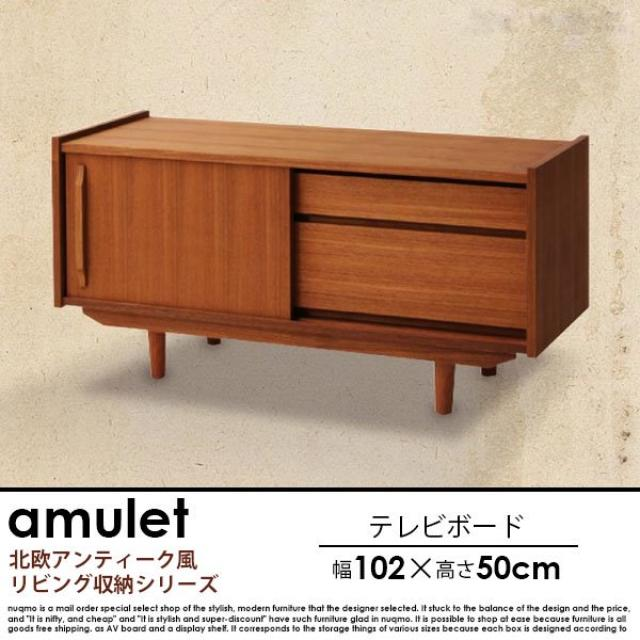vintage shelf: (52, 108, 594, 420)
